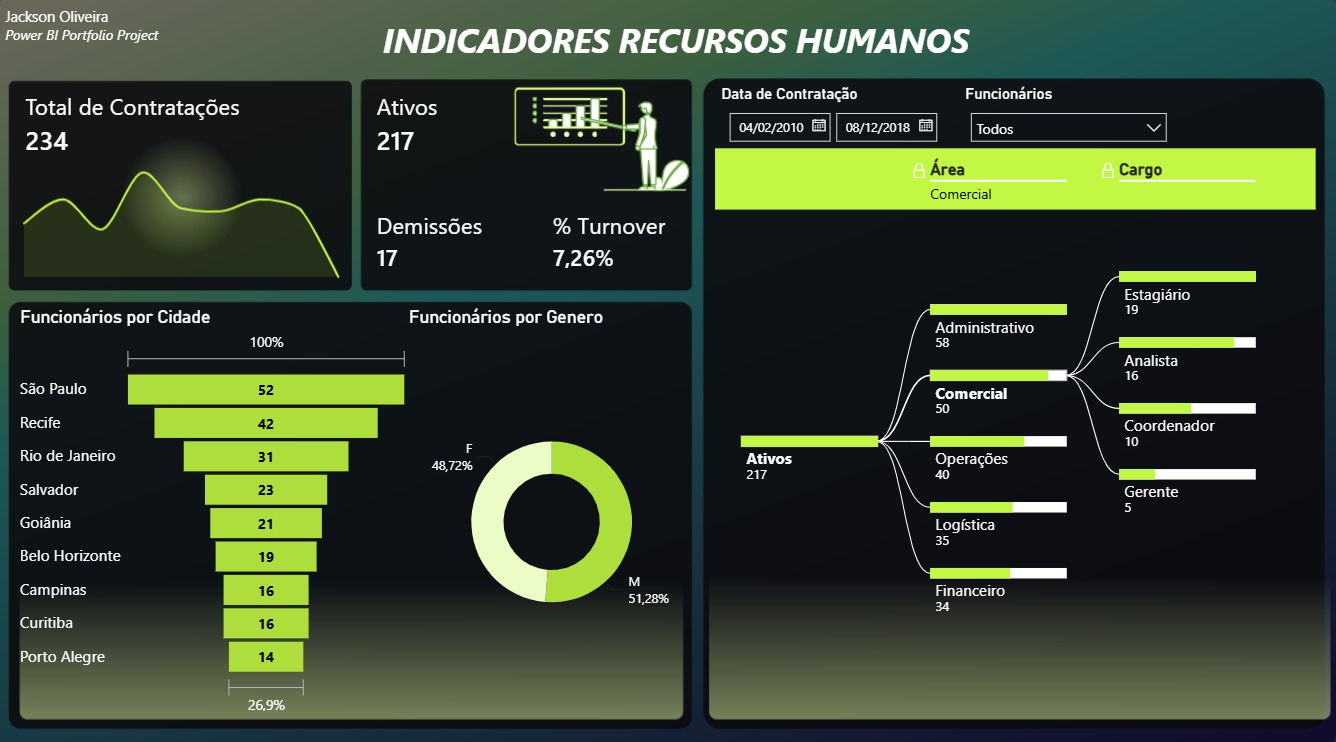

The dashboard page shown, as its layout file describes it:
{"tool":"powerbi","page":{"name":"Dashboard RH","canvas":[1280,720],"ordinal":0},"visuals":[{"type":"cardVisual","fields":{"Data":["BaseFuncionarios.Total de Contratações"]},"box":[0,79.8,281,91.7],"z":0},{"type":"cardVisual","fields":{"Data":["BaseFuncionarios.% Turnover"]},"box":[502.4,191.7,184.5,90.5],"z":1000},{"type":"cardVisual","fields":{"Data":["BaseFuncionarios.Ativos"]},"box":[334.8,80.2,129.8,91.7],"z":2000},{"type":"cardVisual","fields":{"Data":["BaseFuncionarios.Demissões"]},"box":[334.5,191.7,192.9,90.5],"z":3000},{"type":"PBI_CV_25997FEB_F466_44FA_B562_AC4063283C4C","fields":{"axis":["BaseFuncionarios.Data de Contratacao.Variation.Hierarquia de datas.Ano"],"measure":["BaseFuncionarios.Total de Contratações"]},"box":[9.5,154.8,339.3,127.4],"z":4000},{"type":"funnel","title":"Funcionários por Cidade","fields":{"Category":["BaseFuncionarios.Cidade"],"Y":["CountNonNull(BaseFuncionarios.Nome)"]},"box":[19,298.8,381,395.2],"z":5000},{"type":"donutChart","title":"Funcionários por Genero","fields":{"Category":["BaseFuncionarios.Genero"],"Y":["CountNonNull(BaseFuncionarios.Funcionários)"]},"box":[389.3,298.8,282.1,392.9],"z":6000},{"type":"decompositionTreeVisual","fields":{"Analyze":["BaseFuncionarios.Ativos"],"ExplainBy":["BaseFuncionarios.Área","BaseFuncionarios.Cargo"]},"box":[681,144,582.1,547.6],"z":7000},{"type":"textbox","box":[364.3,19,597.6,60.7],"z":8000},{"type":"textbox","box":[4.8,8.3,175,53.6],"z":9000},{"type":"slicer","title":"Data de Contratação","fields":{"Values":["BaseFuncionarios.Data de Contratacao"]},"box":[686.9,88.1,215.5,56],"z":10000},{"type":"slicer","title":"Funcionários","fields":{"Values":["BaseFuncionarios.Funcionários"]},"box":[919.1,88.1,207.1,56],"z":11000}]}

Visuals, with their boxes in screenshot pixels (x1, y1, x2, y2), scaled from the page's 1280x720 canvas onto the 1336x742 screenshot:
cardVisual - BaseFuncionarios.Total de Contratações: {"x1": 0, "y1": 82, "x2": 293, "y2": 177}
cardVisual - BaseFuncionarios.% Turnover: {"x1": 524, "y1": 198, "x2": 717, "y2": 291}
cardVisual - BaseFuncionarios.Ativos: {"x1": 349, "y1": 83, "x2": 485, "y2": 177}
cardVisual - BaseFuncionarios.Demissões: {"x1": 349, "y1": 198, "x2": 550, "y2": 291}
PBI_CV_25997FEB_F466_44FA_B562_AC4063283C4C - BaseFuncionarios.Data de Contratacao.Variation.Hierarquia de datas.Ano x BaseFuncionarios.Total de Contratações: {"x1": 10, "y1": 160, "x2": 364, "y2": 291}
"Funcionários por Cidade" funnel: {"x1": 20, "y1": 308, "x2": 418, "y2": 715}
"Funcionários por Genero" donutChart: {"x1": 406, "y1": 308, "x2": 701, "y2": 713}
decompositionTreeVisual - BaseFuncionarios.Ativos x BaseFuncionarios.Área: {"x1": 711, "y1": 148, "x2": 1318, "y2": 713}
textbox: {"x1": 380, "y1": 20, "x2": 1004, "y2": 82}
textbox: {"x1": 5, "y1": 9, "x2": 188, "y2": 64}
"Data de Contratação" slicer: {"x1": 717, "y1": 91, "x2": 942, "y2": 149}
"Funcionários" slicer: {"x1": 959, "y1": 91, "x2": 1175, "y2": 149}
